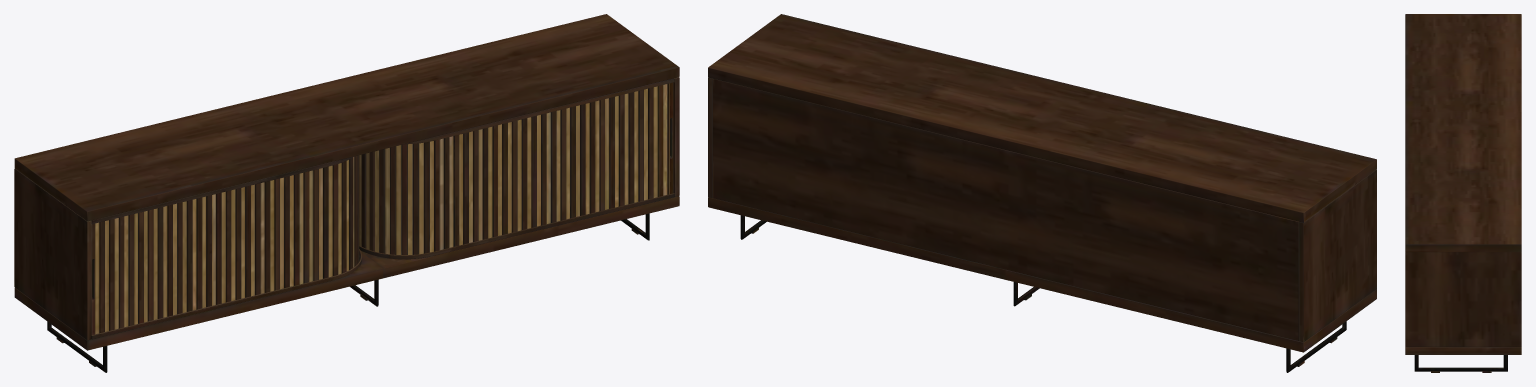
File: modern_wooden_cabinet.glb
3 views of the same model, side by side, from view 1: azimuth 30°, elevation 25°; view 2: azimuth 150°, elevation 25°; view 3: azimuth 270°, elevation 25° (orthographic). The views are drawn at different scales.
Visible parts, largest first — view 1: modern_wooden_cabinet_body, modern_wooden_cabinet_door_l; view 2: modern_wooden_cabinet_body; view 3: modern_wooden_cabinet_body.
Boxes of the visible parts, <box> form: modern_wooden_cabinet_body: <box>14,14,679,372</box>; modern_wooden_cabinet_door_l: <box>91,82,673,334</box>; modern_wooden_cabinet_body: <box>708,14,1376,372</box>; modern_wooden_cabinet_body: <box>1405,14,1521,372</box>.
Bounding box in the file's own units: 2.44 × 0.6801 × 0.5201.
Materials: 1 (1 with a texture image).
